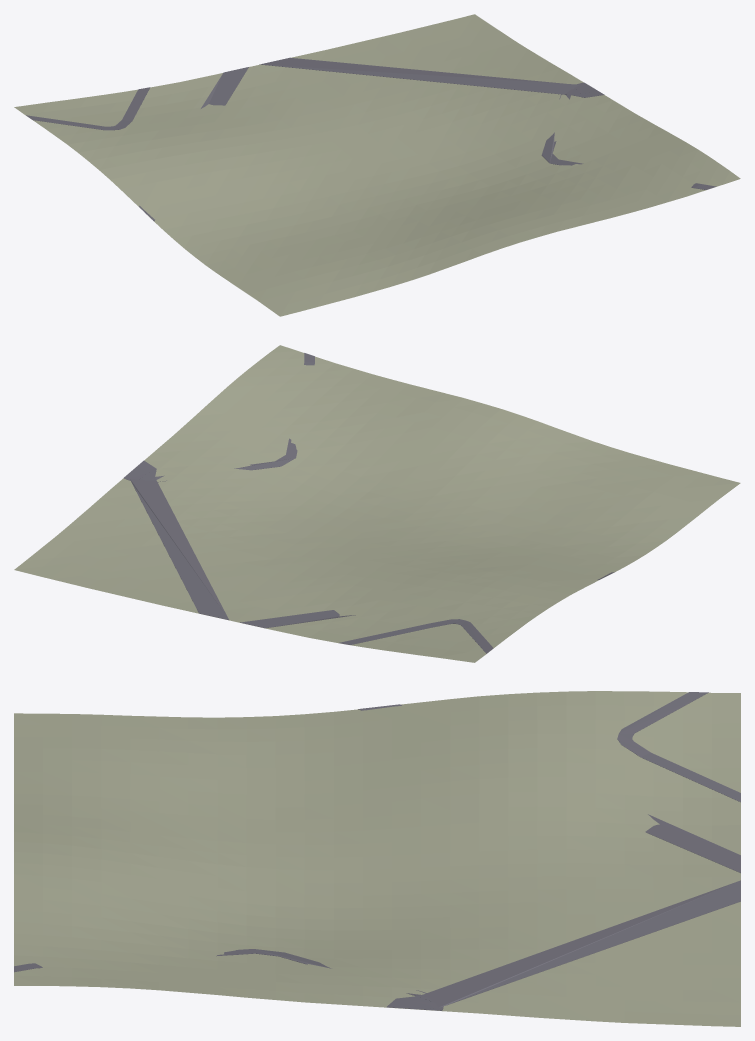
File: chunk_1_8.glb
The picture shows the model from 3 angles, top to bottom: view 1: azimuth 30°, elevation 25°; view 2: azimuth 150°, elevation 25°; view 3: azimuth 270°, elevation 25°; orthographic projection. The views are drawn at different scales.
Visible parts, largest first — view 1: geometry_0, geometry_1, geometry_4, geometry_5, geometry_6; view 2: geometry_0, geometry_1, geometry_5, geometry_4, geometry_6; view 3: geometry_0, geometry_1, geometry_5, geometry_4, geometry_6.
Part boxes in pixels (<box>): geometry_0: <box>14,14,740,316</box>; geometry_1: <box>259,57,579,94</box>; geometry_4: <box>139,67,248,221</box>; geometry_5: <box>26,87,150,130</box>; geometry_6: <box>541,89,716,189</box>; geometry_0: <box>14,345,740,662</box>; geometry_1: <box>130,477,228,619</box>; geometry_5: <box>339,619,493,653</box>; geometry_4: <box>240,572,614,628</box>; geometry_6: <box>142,353,314,482</box>; geometry_0: <box>14,691,740,1026</box>; geometry_1: <box>415,880,740,1007</box>; geometry_5: <box>617,692,740,802</box>; geometry_4: <box>358,704,740,872</box>; geometry_6: <box>14,949,432,1001</box>.
Size of the model in its own units: 250 by 17.2 by 250.
